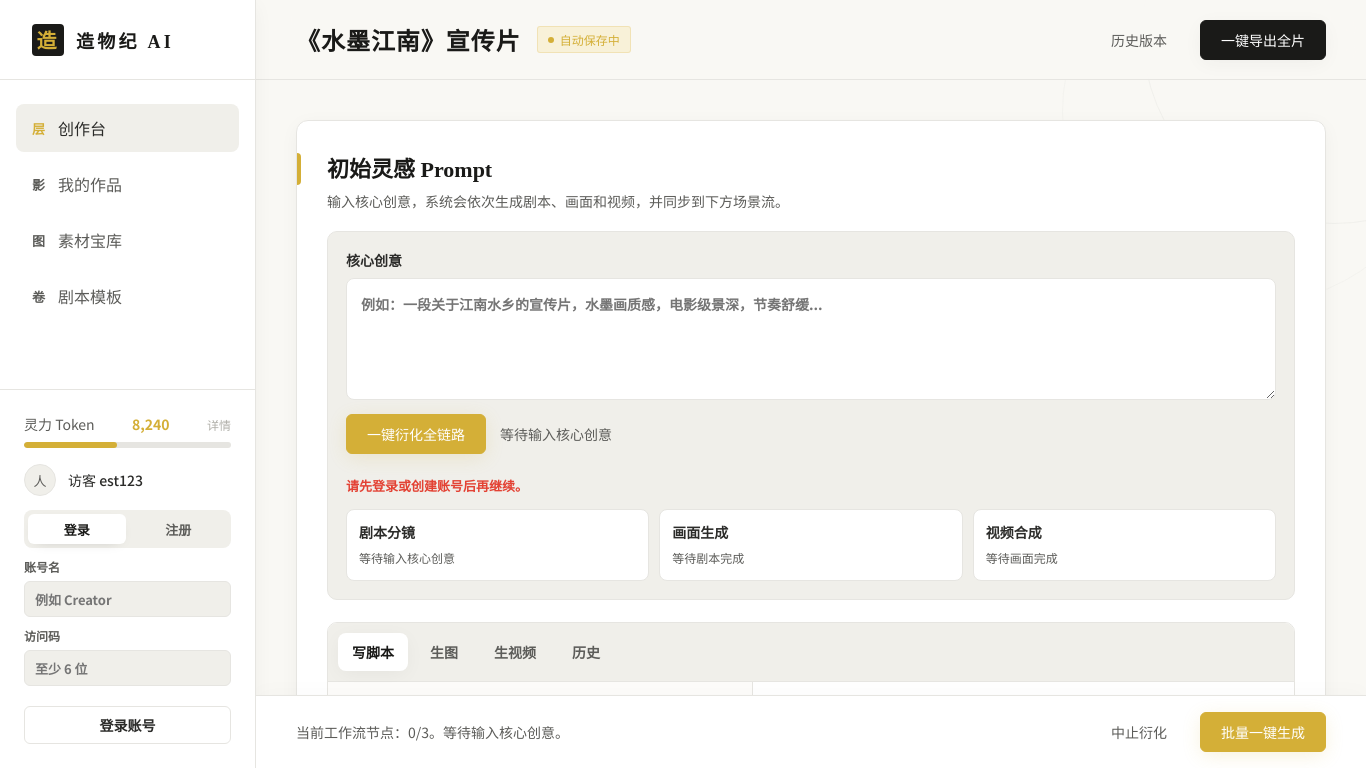
Scenario: WorkflowShell › logs in and logs out from the sidebar account panel
expect the text "访客 est123" is shown: met, box [68, 470, 143, 490]
Step 1. Type "Creator" into the field labelled "账号名" → point(128, 599), box [24, 581, 231, 617]
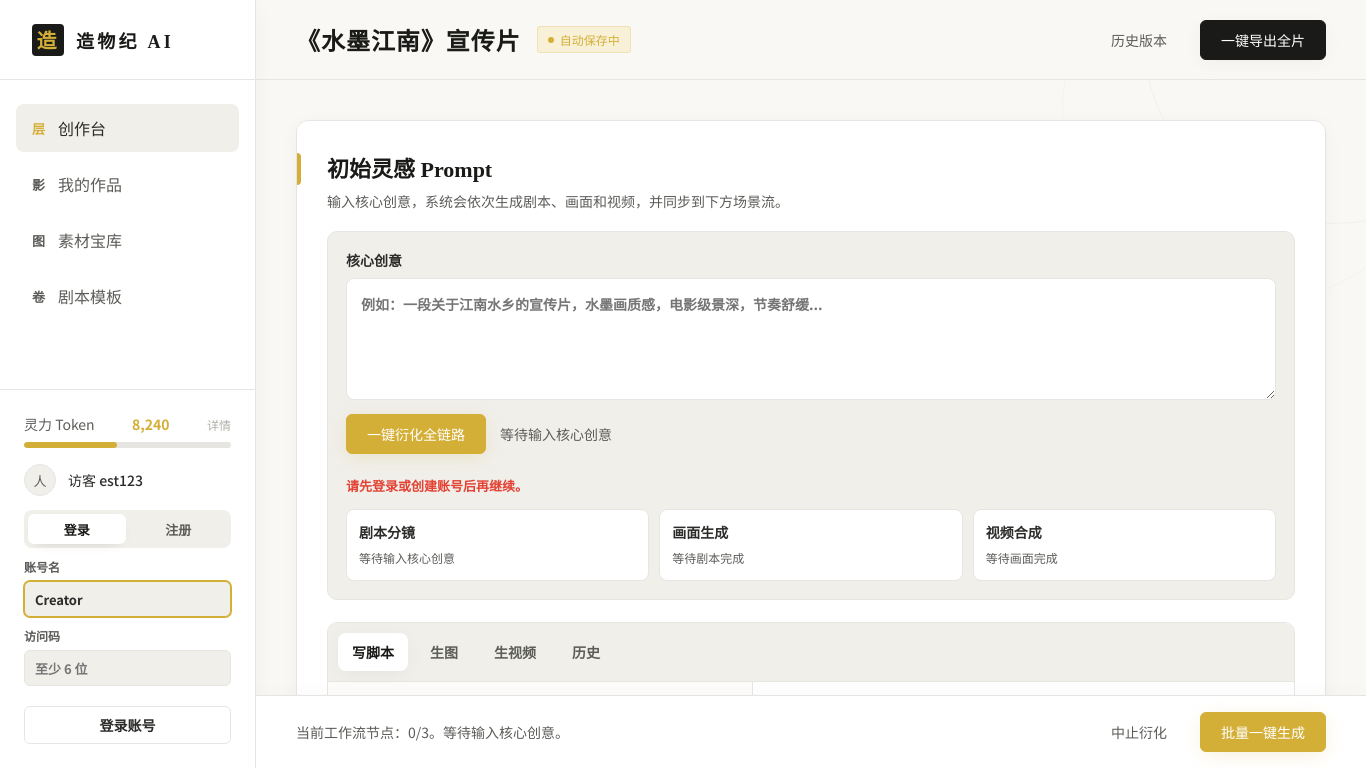
Step 2. Type "open-2026" into the password field labelled "访问码" → point(128, 668), box [24, 650, 231, 686]
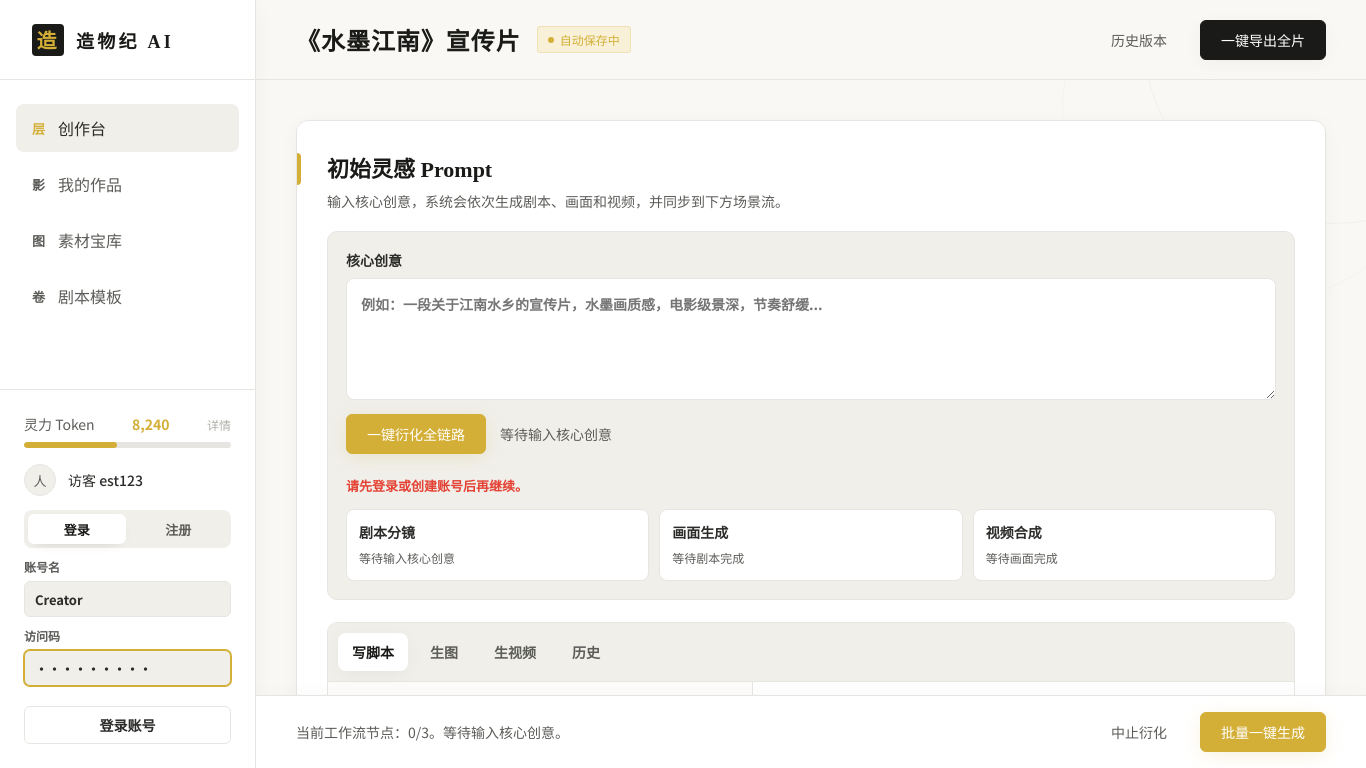
Step 3. Click the button "登录账号" → point(128, 725), box [24, 706, 231, 744]
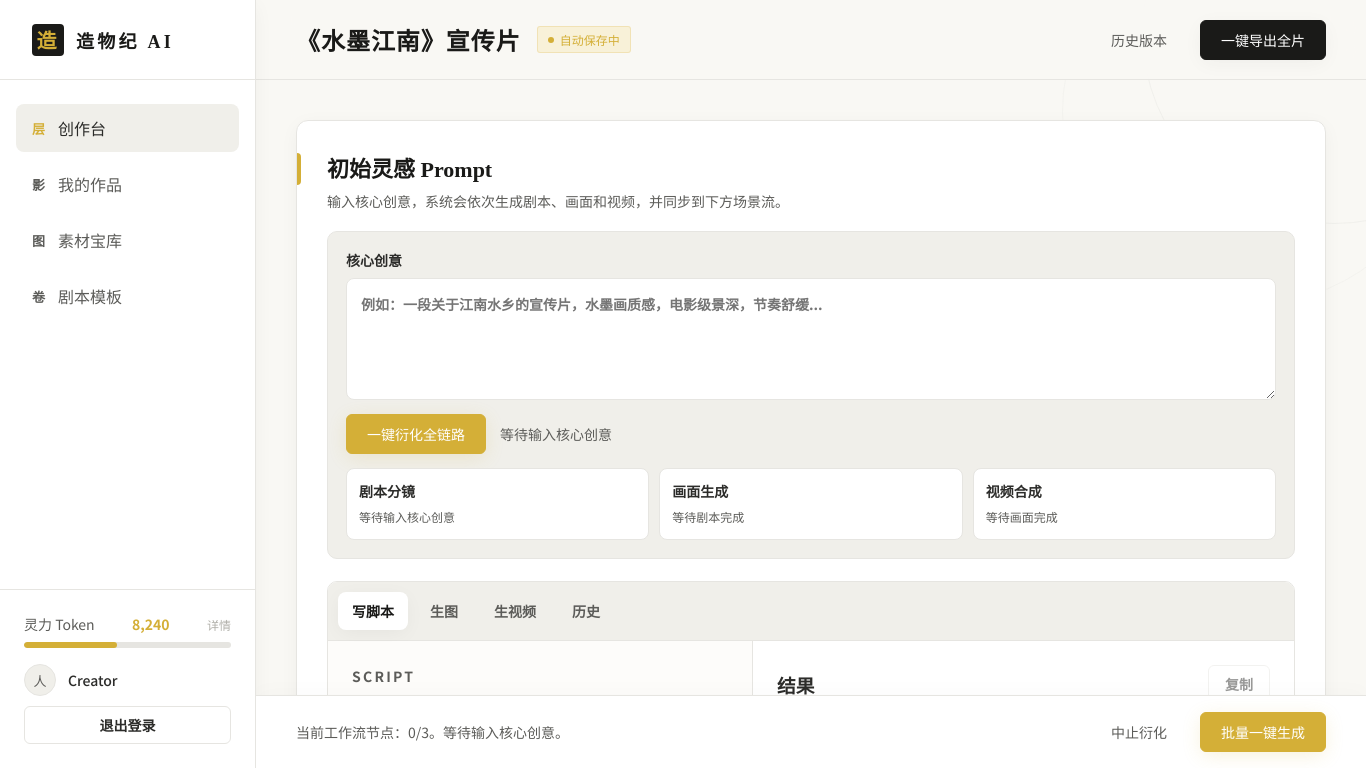
expect the text "Creator" is shown: met, box [68, 670, 118, 690]
Step 4. Click the button "退出登录" → point(128, 725), box [24, 706, 231, 744]
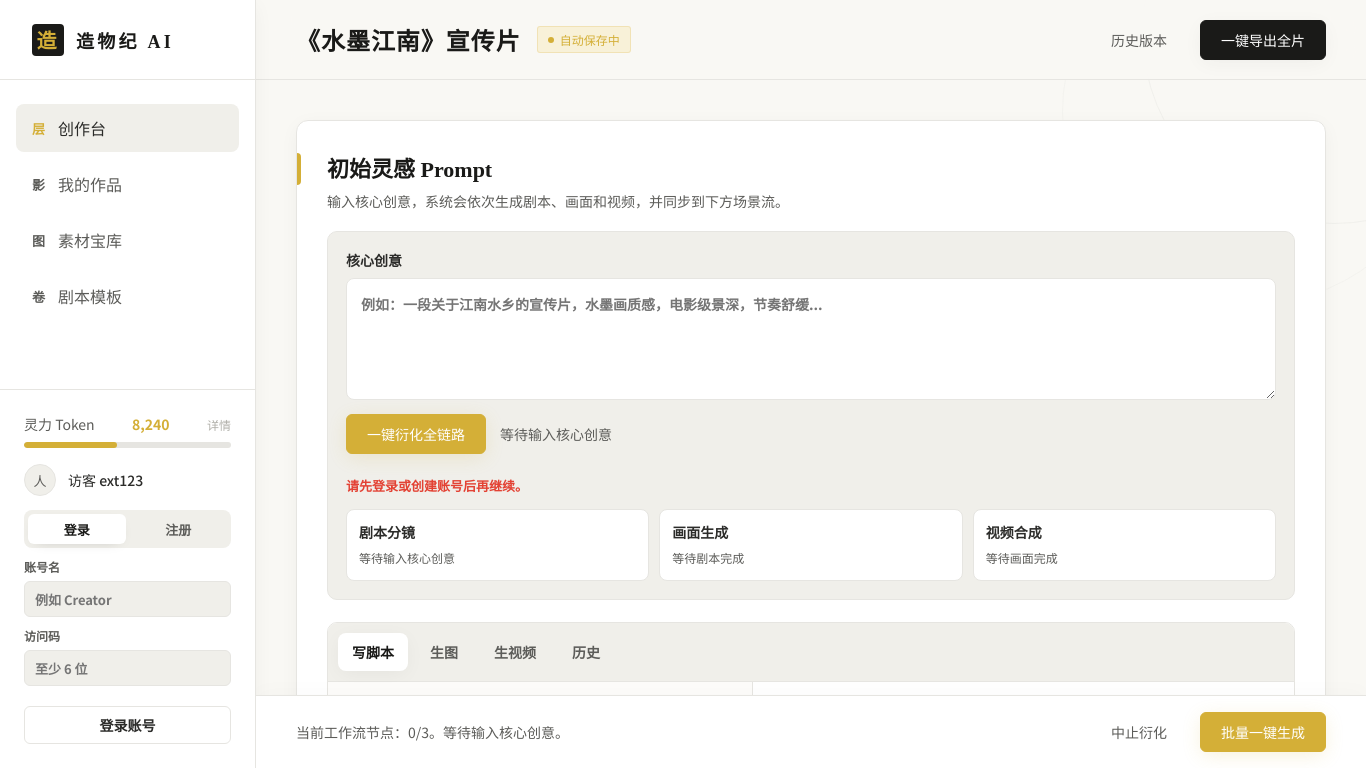
expect the text "访客 ext123" is shown: met, box [68, 470, 143, 490]
